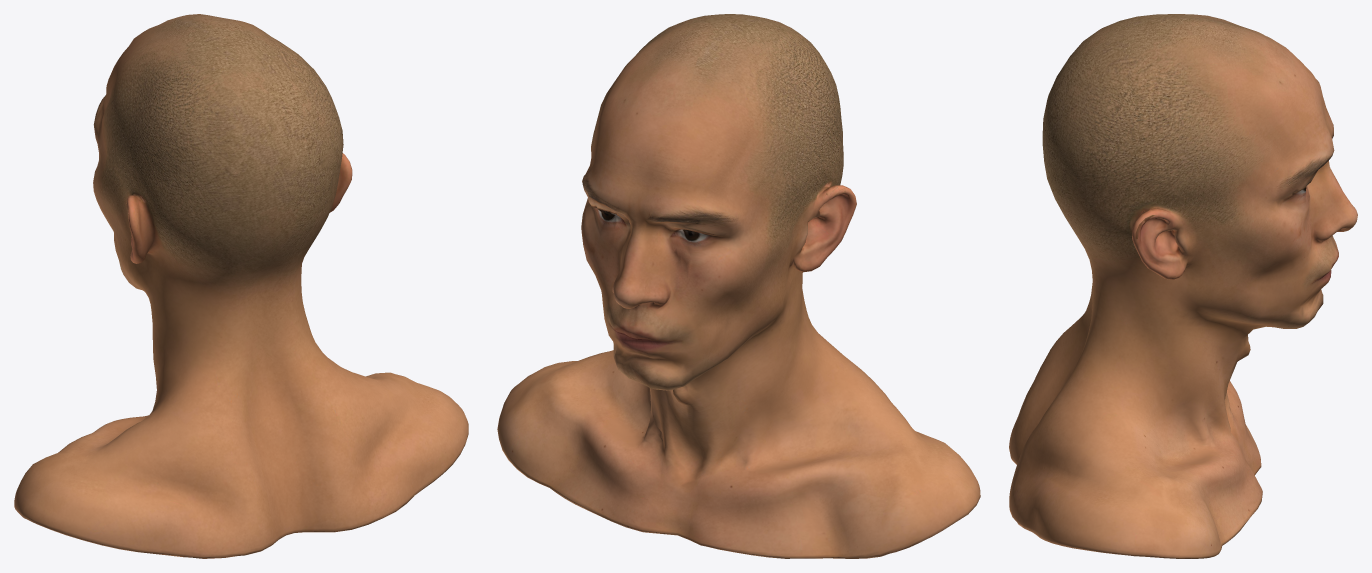
File: Model_HairHead_Interpreter.glb
3 renders of one model, left to right at view 1: azimuth 30°, elevation 25°; view 2: azimuth 150°, elevation 25°; view 3: azimuth 270°, elevation 25°, orthographic. The views are drawn at different scales.
Visible parts, largest first — view 1: HairHead_Interpreter; view 2: HairHead_Interpreter; view 3: HairHead_Interpreter.
Part boxes in pixels (x1,y1,x2,y2): HairHead_Interpreter: [14, 14, 468, 558]; HairHead_Interpreter: [497, 14, 980, 558]; HairHead_Interpreter: [1009, 14, 1357, 558].
Bounding box in the file's own units: 0.3825 × 0.3818 × 0.2632.
Materials: 1 (1 with a texture image).
